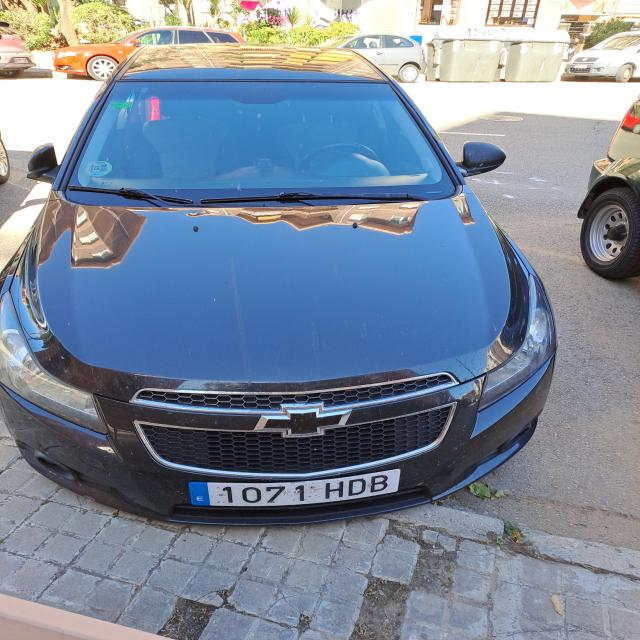license_plate-34Td: (190, 469, 400, 507)
